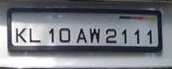0: (58, 28, 72, 43)
1: (120, 27, 129, 44), (145, 28, 154, 45), (48, 27, 56, 44), (133, 28, 141, 44)
2: (104, 28, 118, 44)
A: (75, 27, 89, 44)
K: (13, 26, 28, 44)
L: (28, 26, 42, 43)
W: (88, 27, 102, 45)
